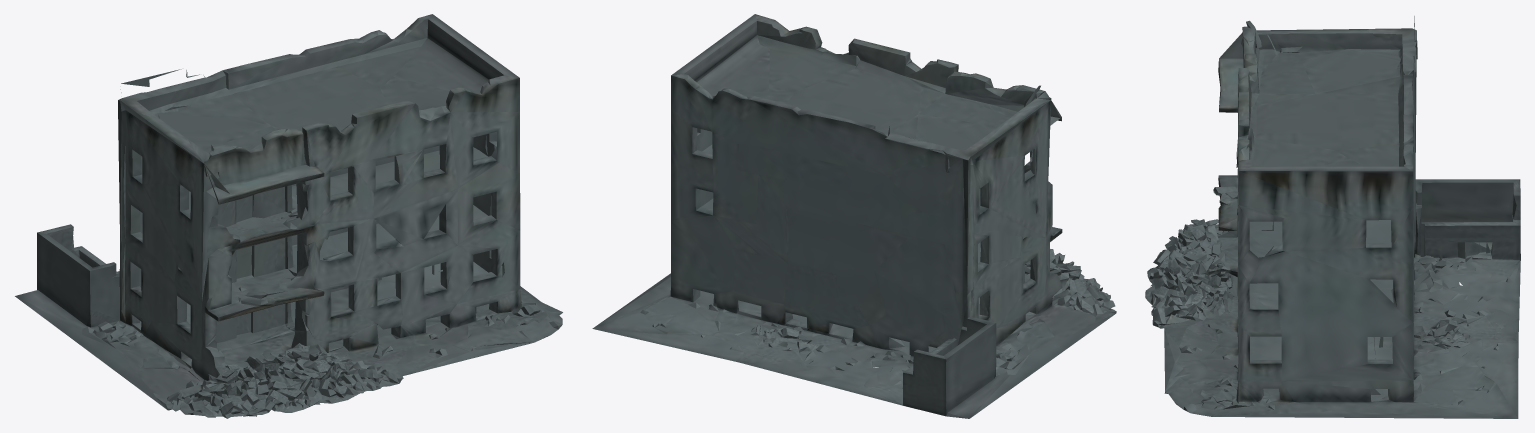
File: ruine_1.glb
3 views of the same model, side by side, from view 1: azimuth 30°, elevation 25°; view 2: azimuth 150°, elevation 25°; view 3: azimuth 270°, elevation 25° (orthographic). The views are drawn at different scales.
Size of the model in its own units: 1.9 by 1.11 by 1.57.
Materials: 1 (1 with a texture image).
